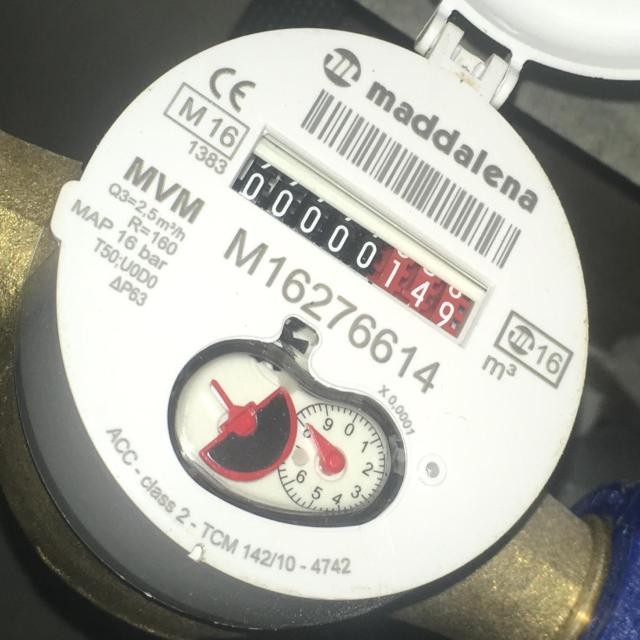gaz_meter: (53, 27, 604, 607)
indication: (224, 141, 490, 347)
